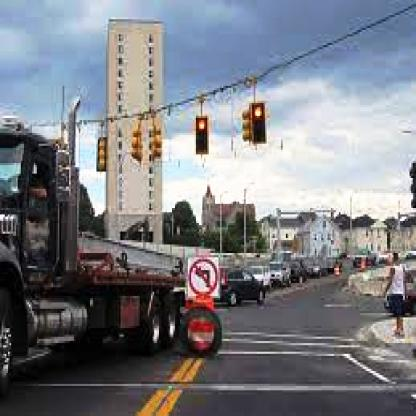No left turn: (188, 255, 219, 294)
